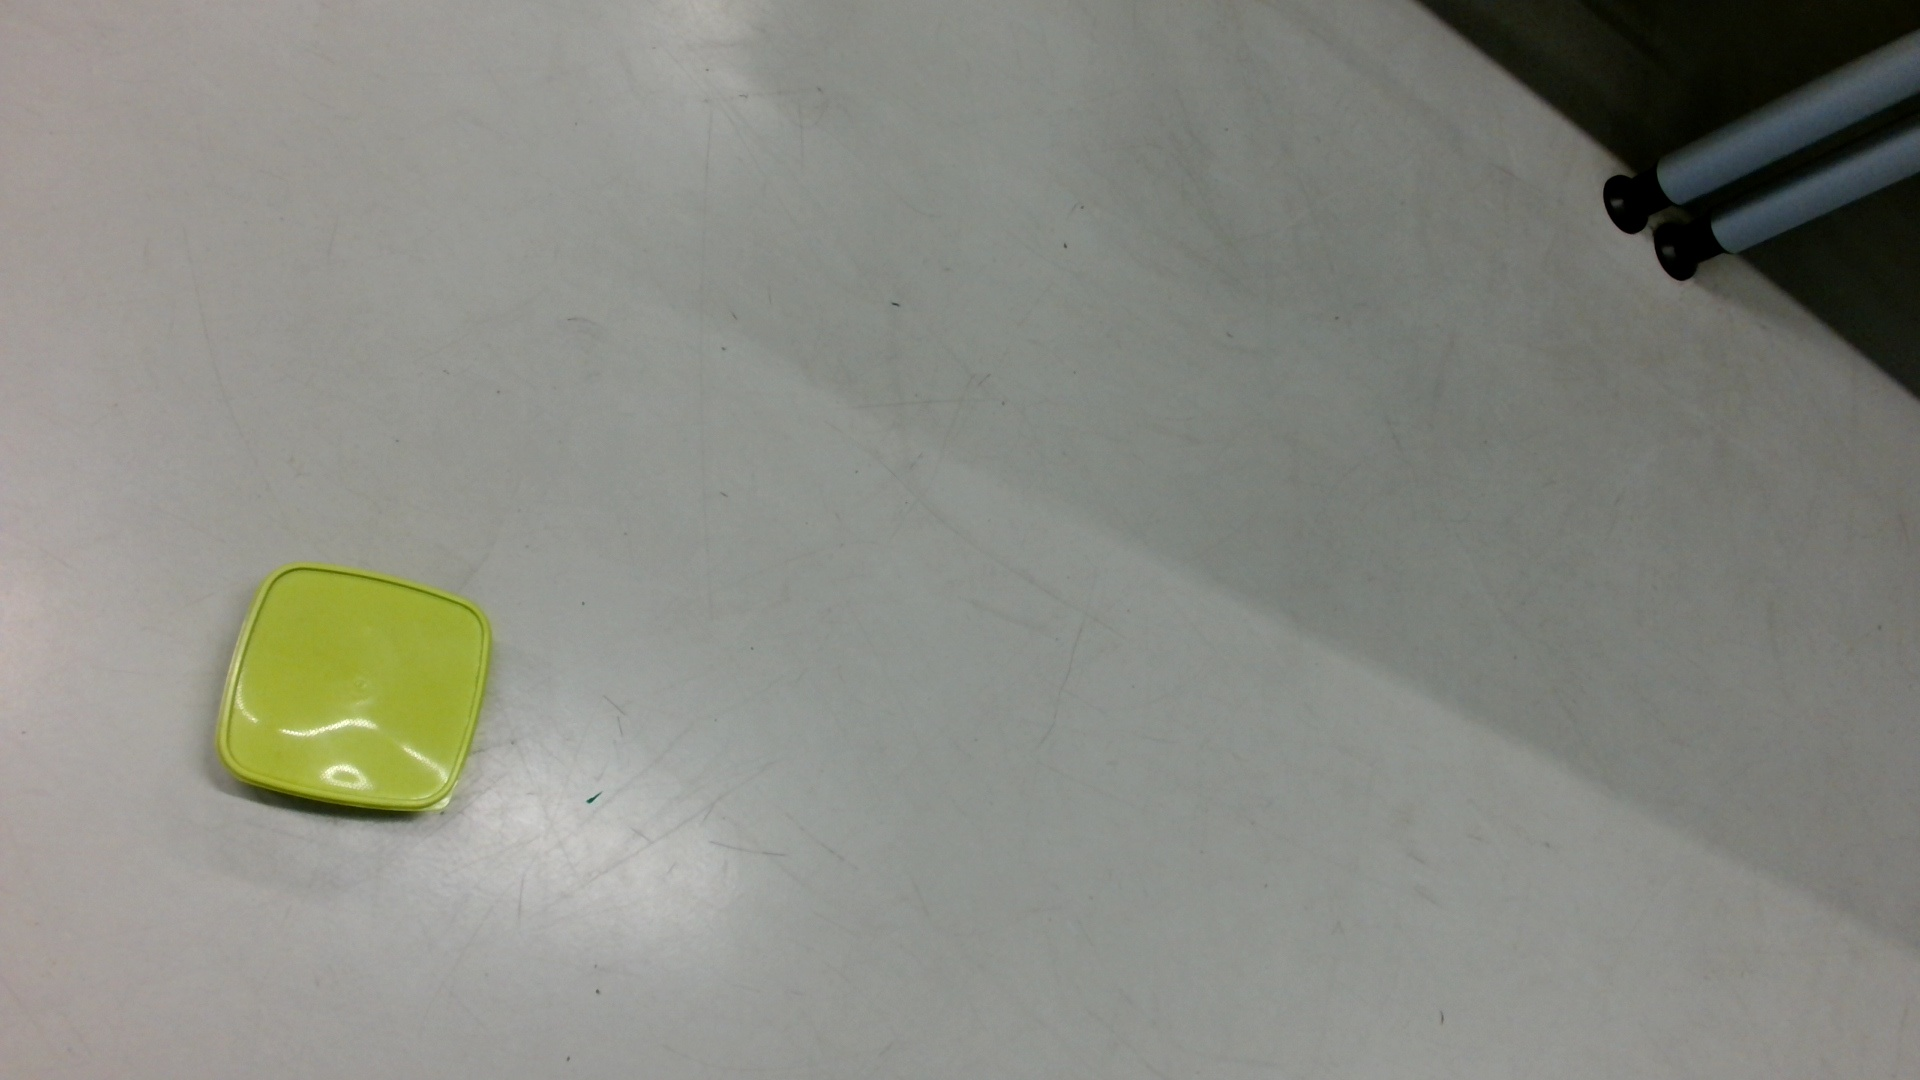Box: (210, 558, 496, 824)
